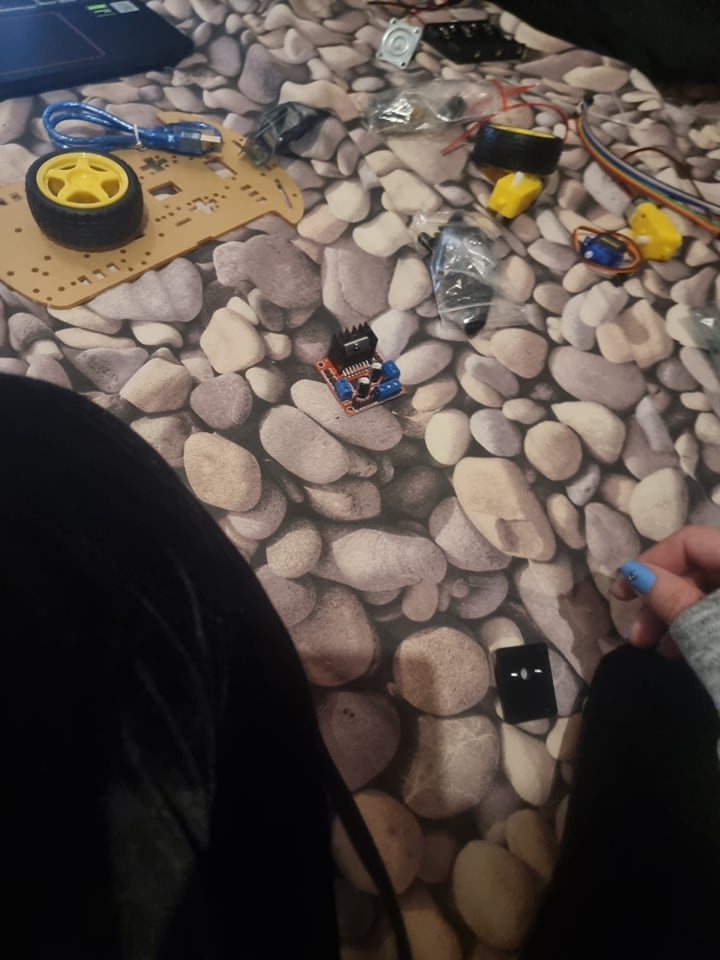BATTERY BOX: (423, 13, 532, 68)
MOTOR: (314, 325, 408, 418)
